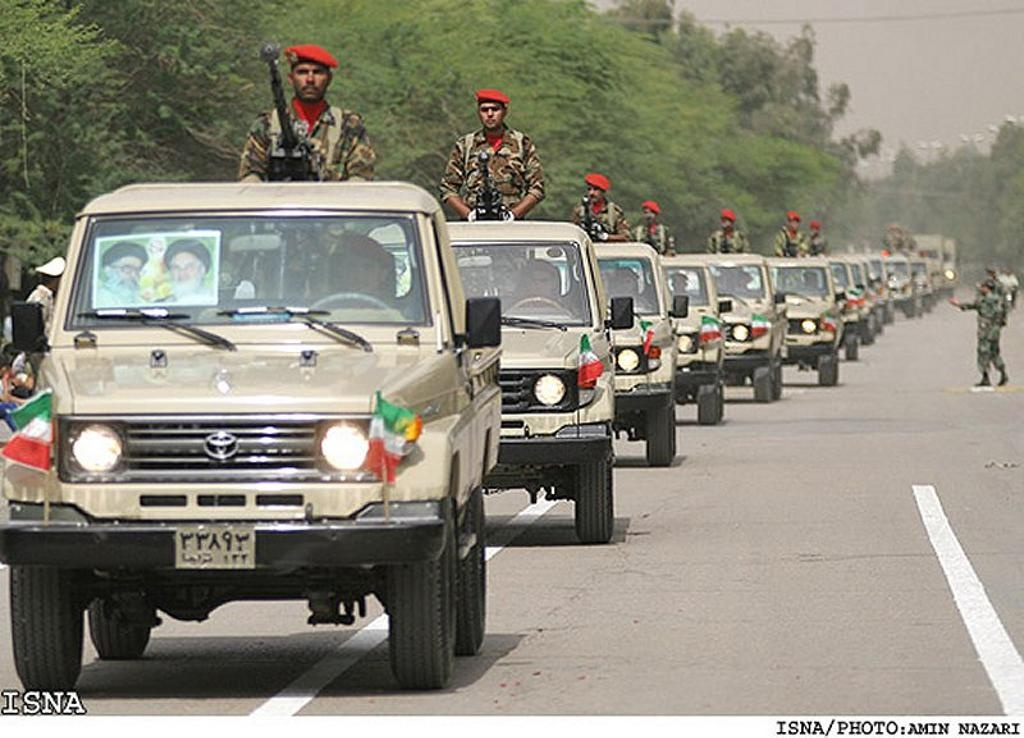human_face: (330, 245, 374, 290), (292, 62, 328, 100), (170, 252, 200, 288), (109, 258, 139, 290), (526, 270, 552, 296), (478, 102, 502, 128), (616, 274, 632, 294), (729, 274, 745, 290), (586, 184, 600, 202), (720, 215, 732, 230), (642, 208, 654, 222), (672, 278, 684, 292), (804, 276, 816, 289), (978, 284, 988, 294), (788, 219, 798, 229), (834, 269, 840, 280), (809, 228, 817, 236), (985, 272, 993, 280)
